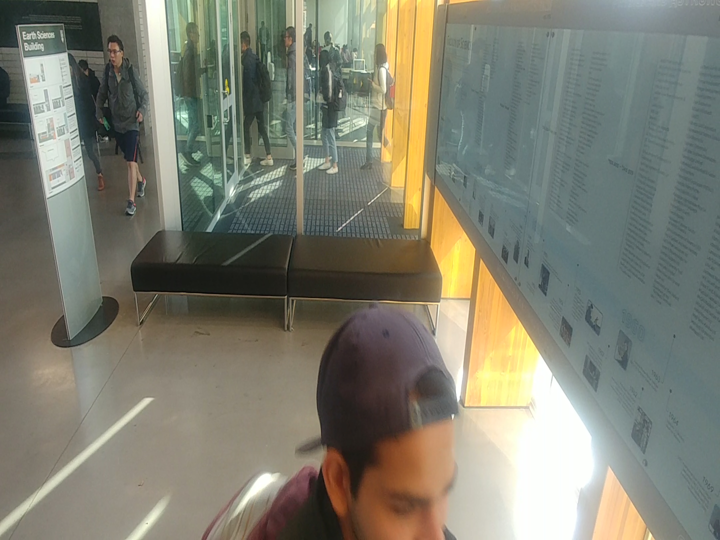face: (301, 290, 468, 540), (103, 28, 131, 70), (366, 38, 391, 72), (310, 46, 338, 76), (182, 20, 204, 48), (239, 27, 256, 55), (279, 24, 295, 51)
human: (186, 292, 470, 540), (91, 28, 151, 222), (170, 20, 217, 170), (238, 21, 278, 170), (312, 40, 353, 182), (359, 38, 397, 174), (278, 23, 299, 174)
